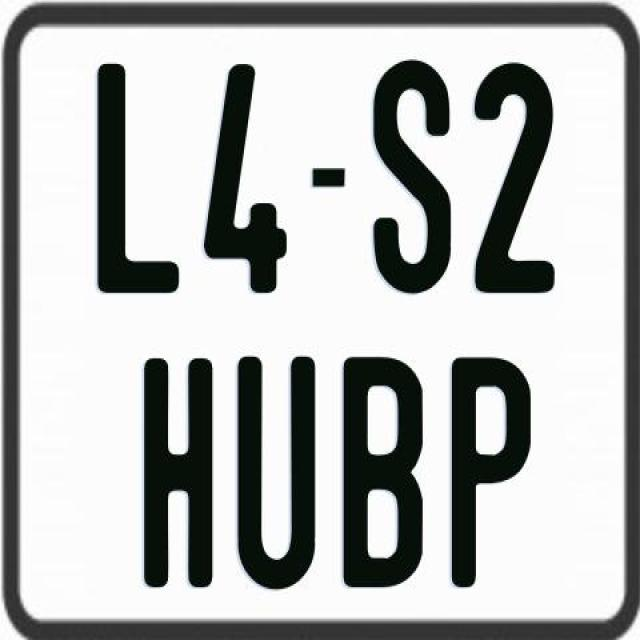2: (473, 61, 555, 292)
4: (202, 63, 290, 294)
B: (342, 356, 426, 588)
H: (144, 353, 220, 592)
L: (96, 59, 184, 296)
P: (452, 355, 539, 592)
S: (373, 56, 458, 298)
U: (234, 356, 314, 590)
